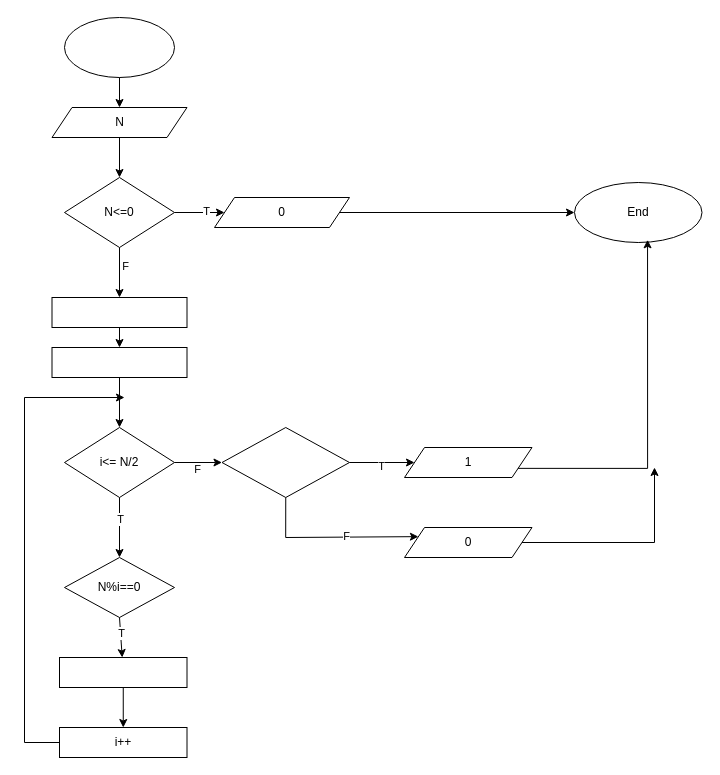
Image size: 720x775. Some labels were removed from this diagram. The centre of each missing label's shape, as x and y in pixels:
"Begin" goes at point (119, 47).
"i=1" goes at point (119, 362).
"s+=i" goes at point (122, 672).
"s=0" goes at point (119, 312).
"s==n" goes at point (285, 462).
